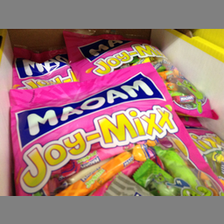candy: (8, 79, 217, 195)
